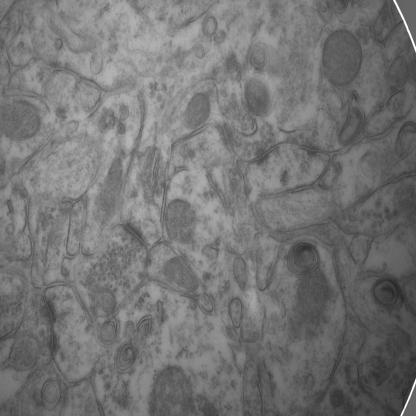mitochondria: (318, 29, 364, 87), (0, 102, 41, 142), (161, 256, 201, 292), (166, 199, 195, 245), (182, 93, 211, 128)
